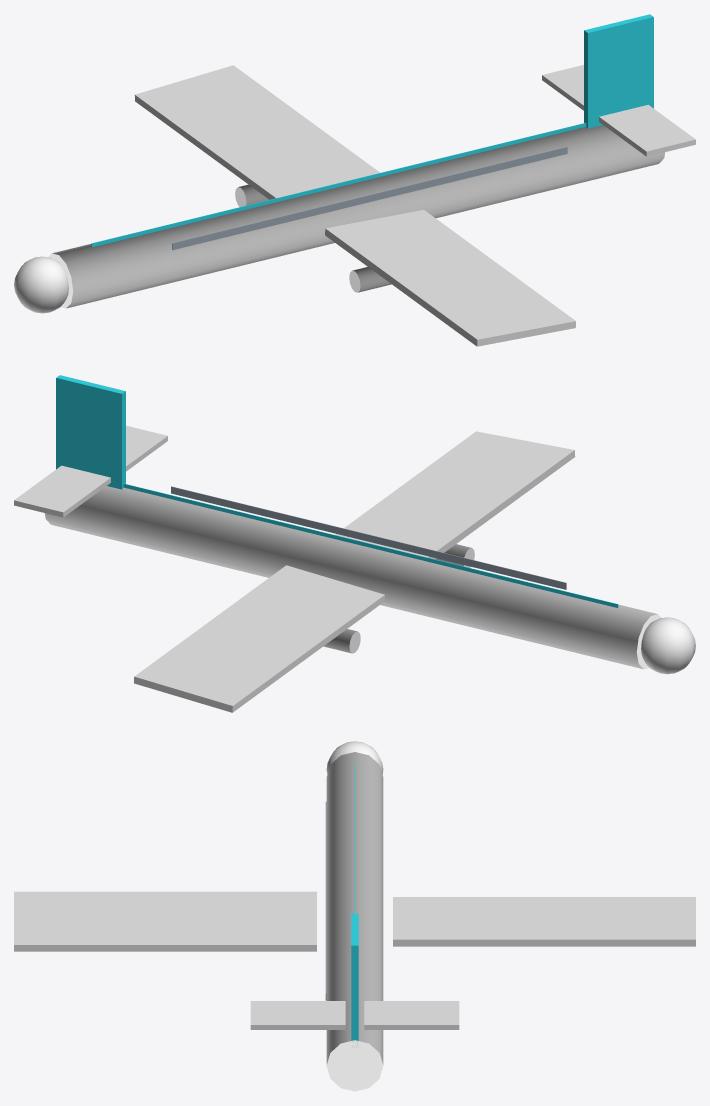
The model's file is env-mod-airplane.glb.
3 renders of one model, top to bottom at view 1: azimuth 30°, elevation 25°; view 2: azimuth 150°, elevation 25°; view 3: azimuth 270°, elevation 25°, orthographic.
Bounding box in the file's own units: 19.25 × 4.3 × 18.
